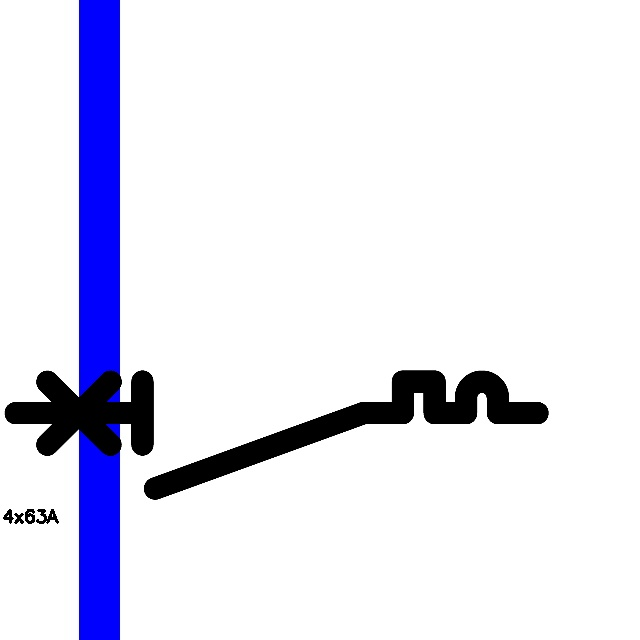interruptor_termomagnetico: (2, 368, 551, 502)
